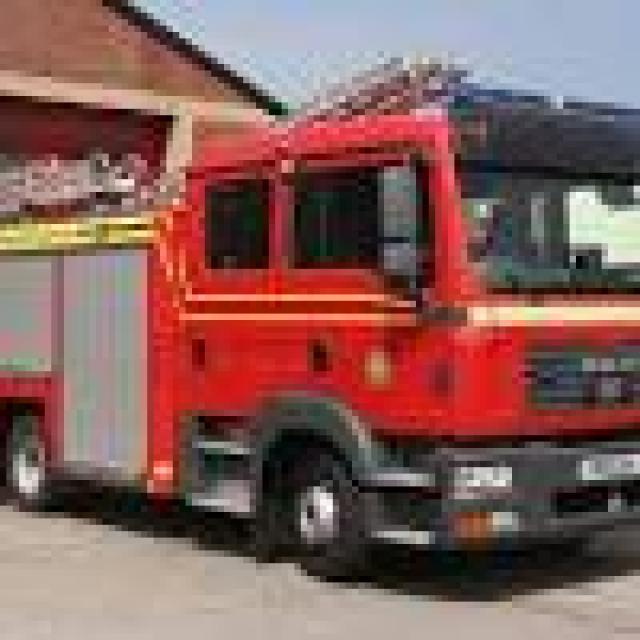Fire_brigade: (13, 57, 640, 588)
